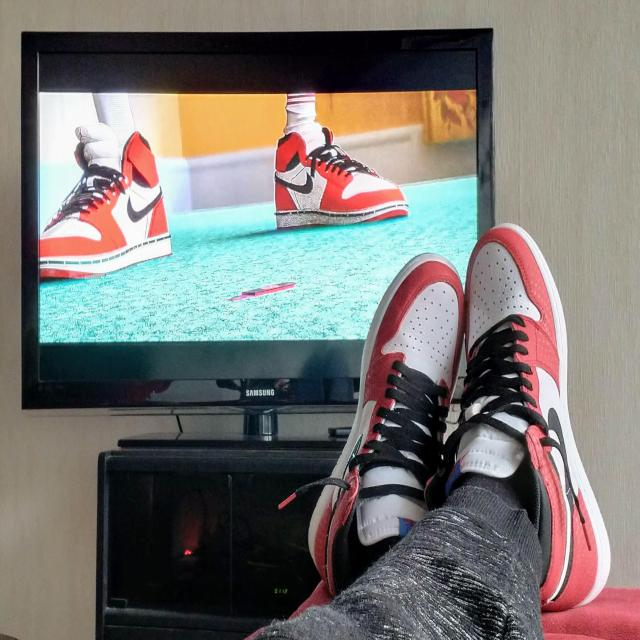shoe: (430, 218, 620, 624), (296, 240, 468, 618), (36, 116, 182, 290), (270, 115, 414, 246)
